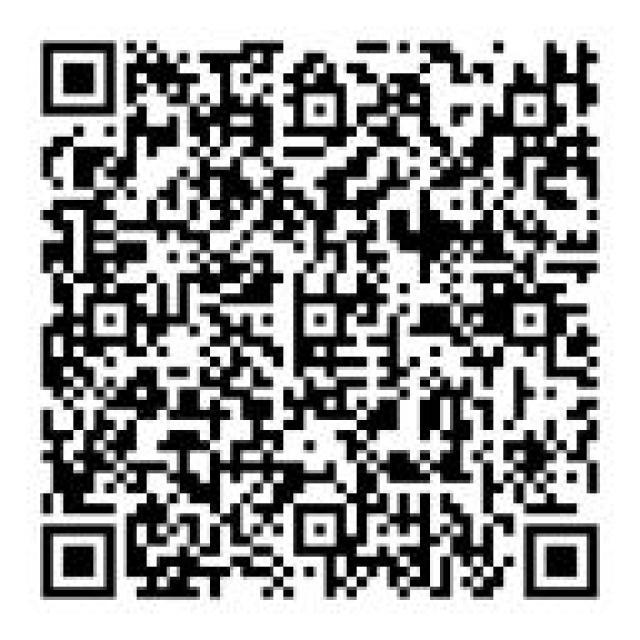qr_code: (39, 39, 600, 601)
